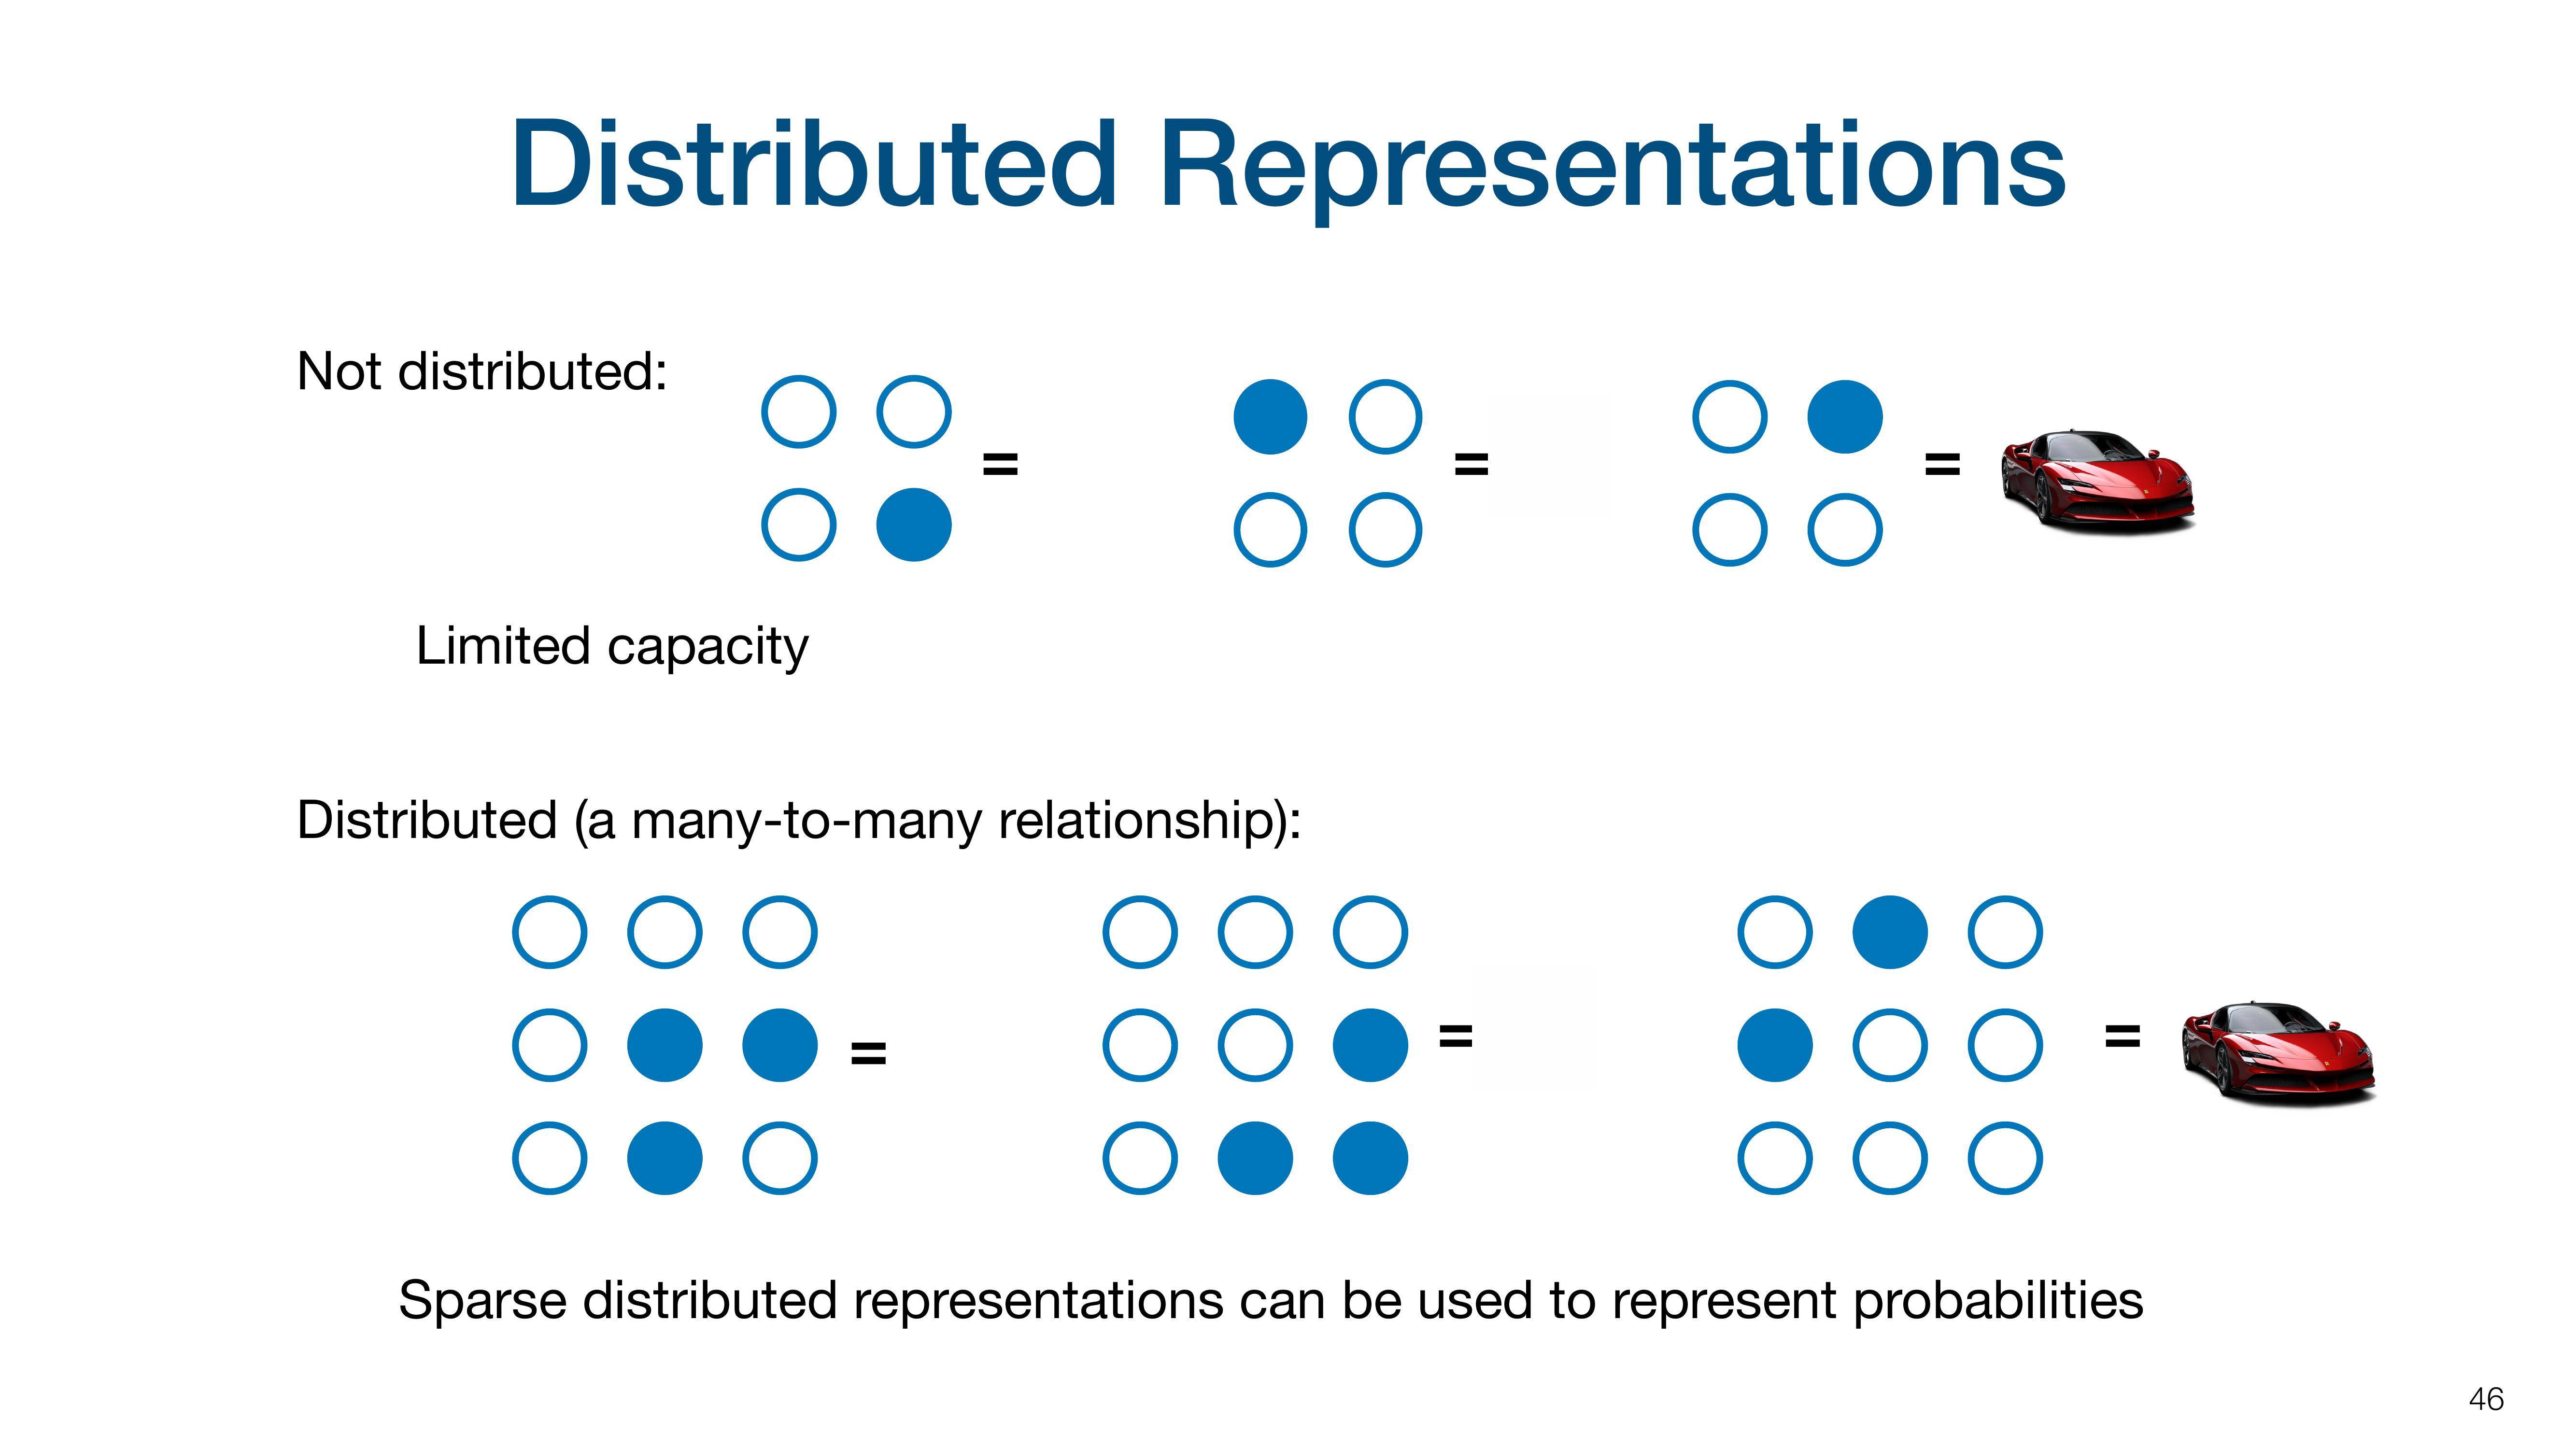Title: (487, 106, 2072, 234)
